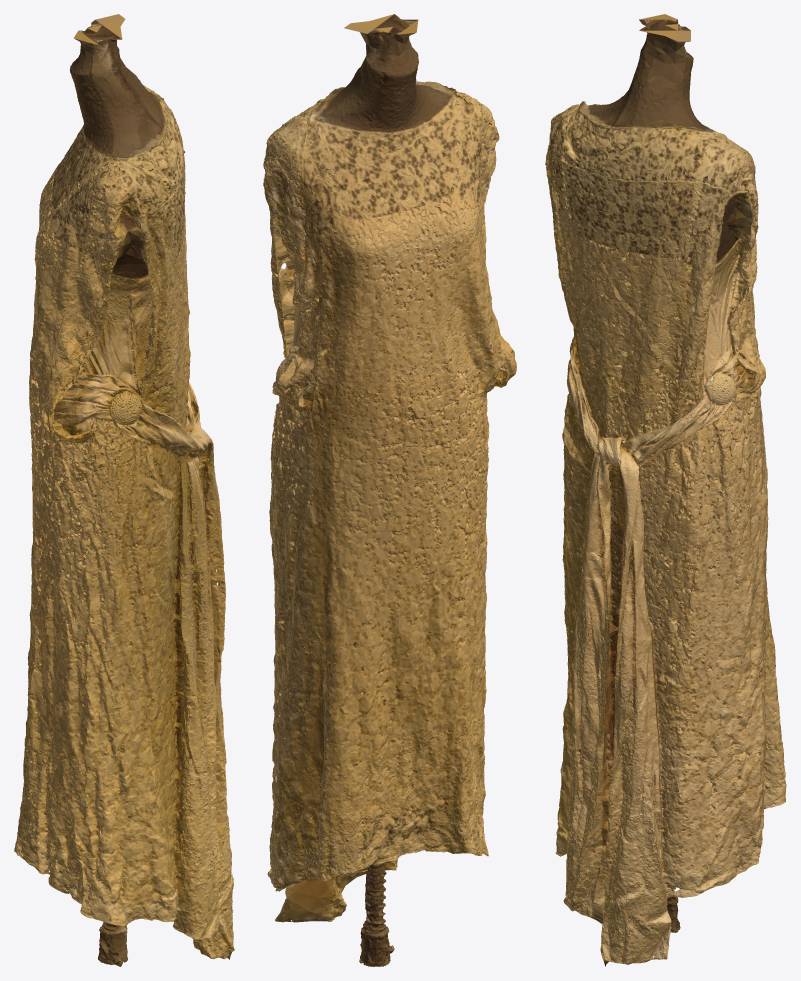
File: dr-2025-549-detail.glb
3 renders of one model, left to right at view 1: azimuth 30°, elevation 25°; view 2: azimuth 150°, elevation 25°; view 3: azimuth 270°, elevation 25°, orthographic. The views are drawn at different scales.
Visible parts, largest first — view 1: display; view 2: display; view 3: display.
Boxes of the visible parts, bbox=[...] form: display: bbox=[14, 14, 234, 966]; display: bbox=[263, 14, 516, 966]; display: bbox=[545, 14, 786, 966].
Size of the model in its own units: 6.24 by 27.52 by 6.71.
1 material, 1 textured.
